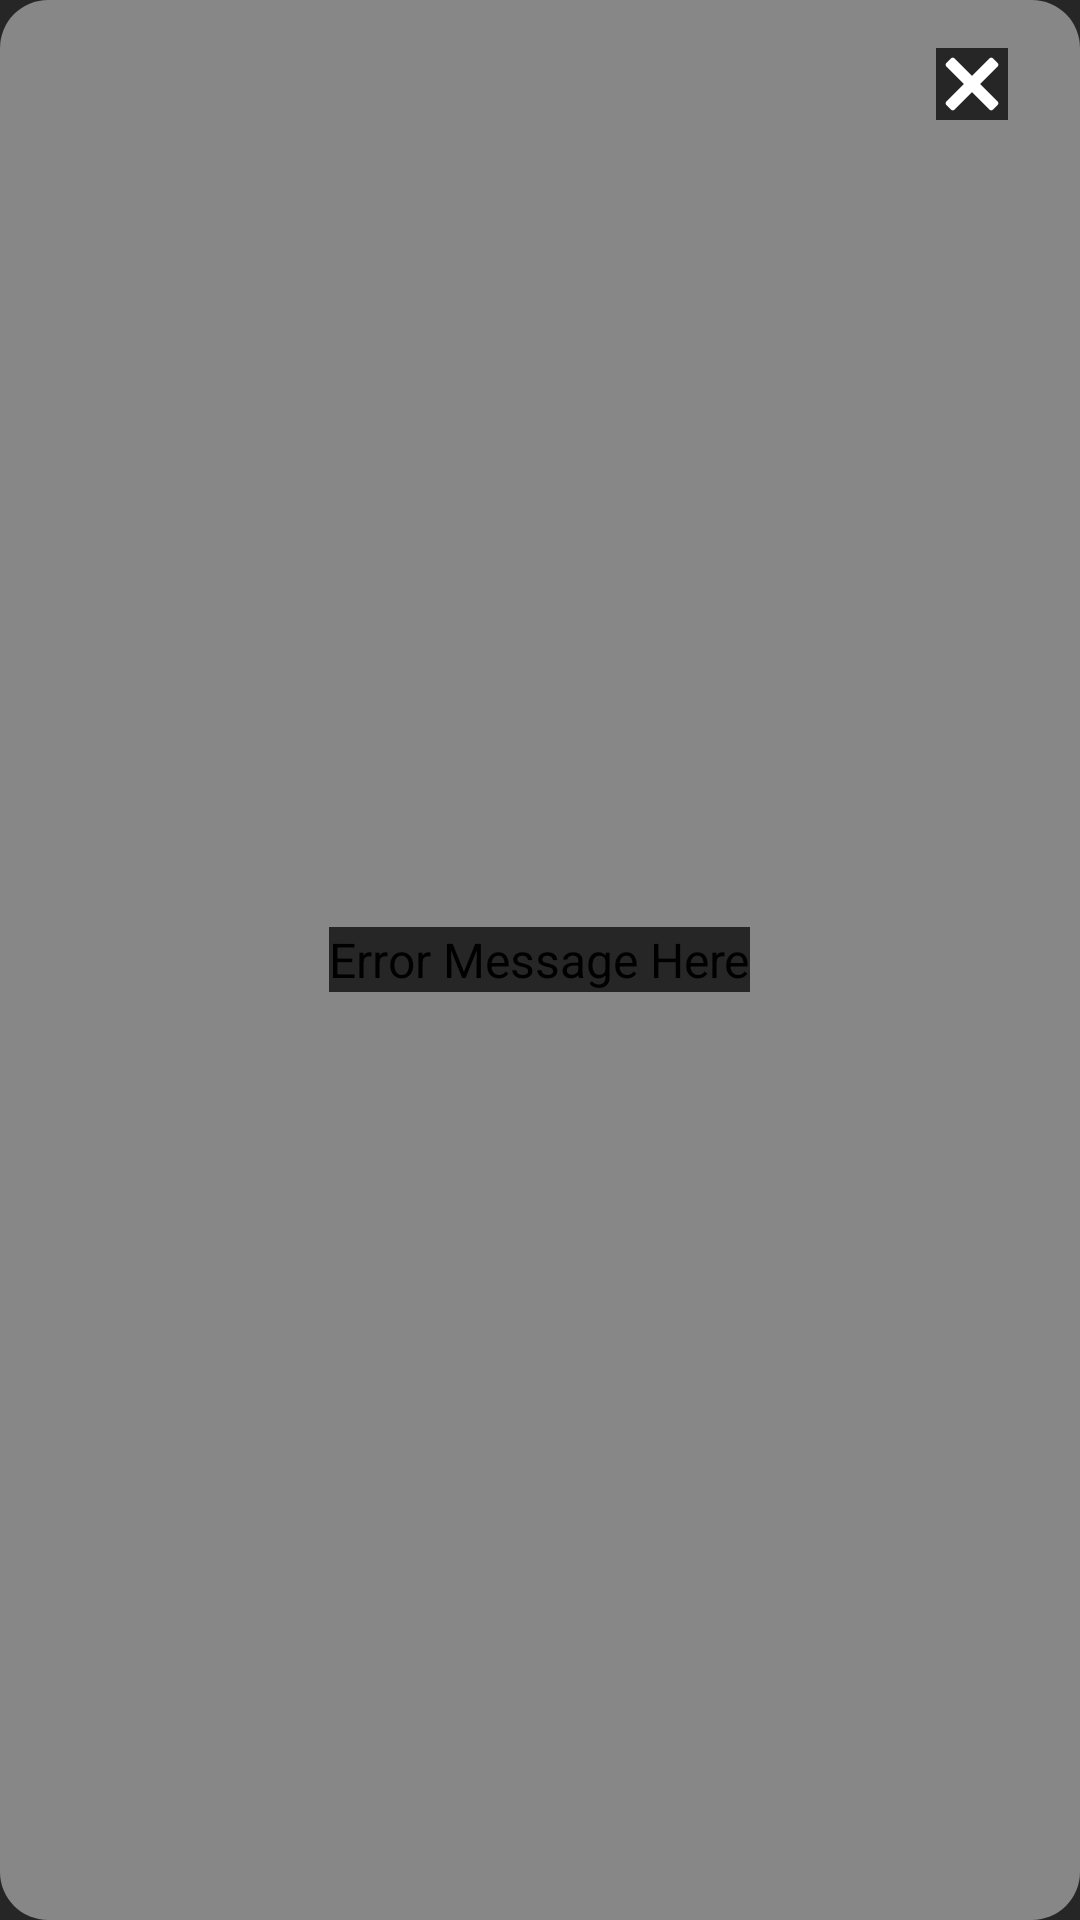

Icons on this 1080w x 1920h Android screen, each with the point to tap as (x,y):
Close: (972,84)
